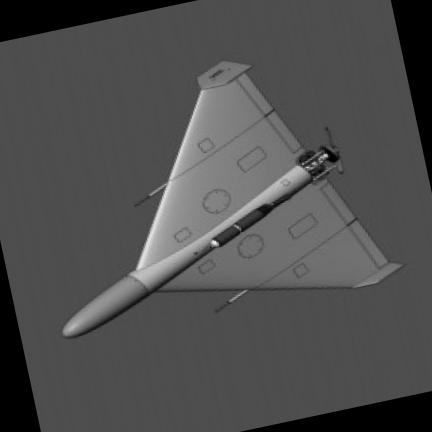Shahed: (63, 60, 401, 338)
